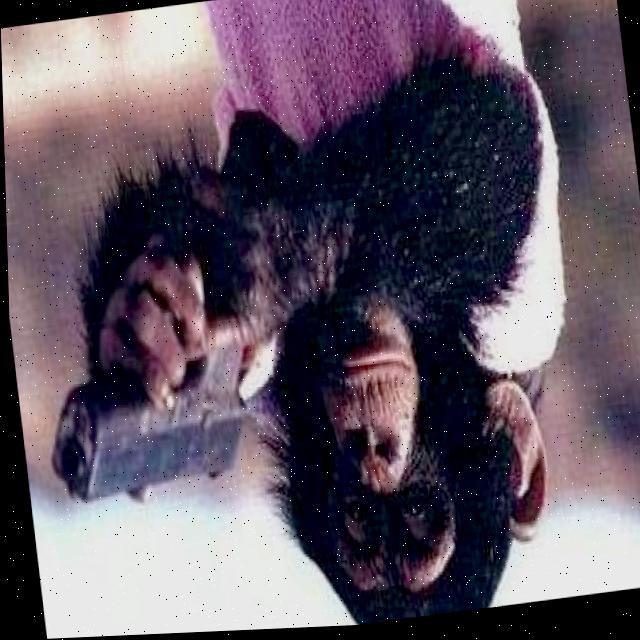pistol: (34, 335, 255, 513)
